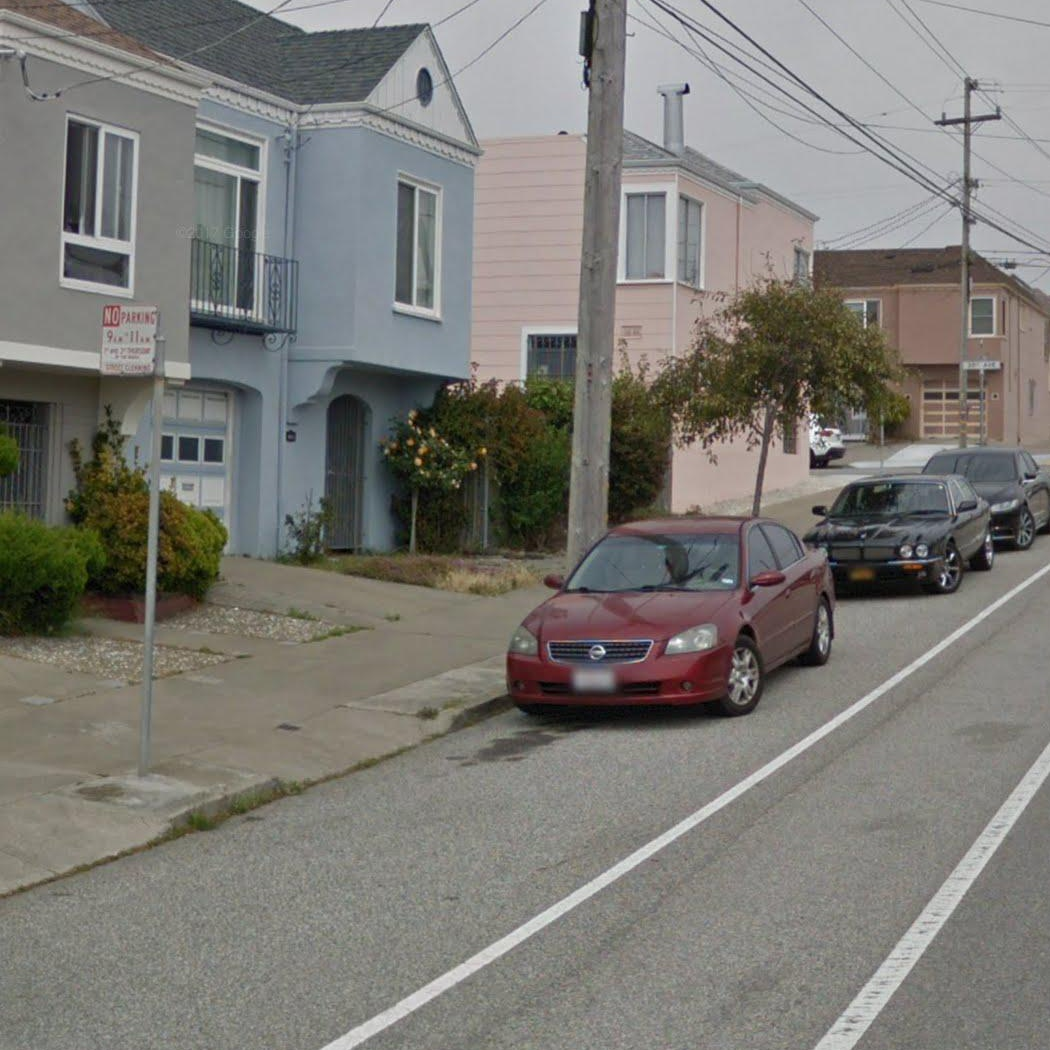No Parking: (99, 303, 159, 376)
